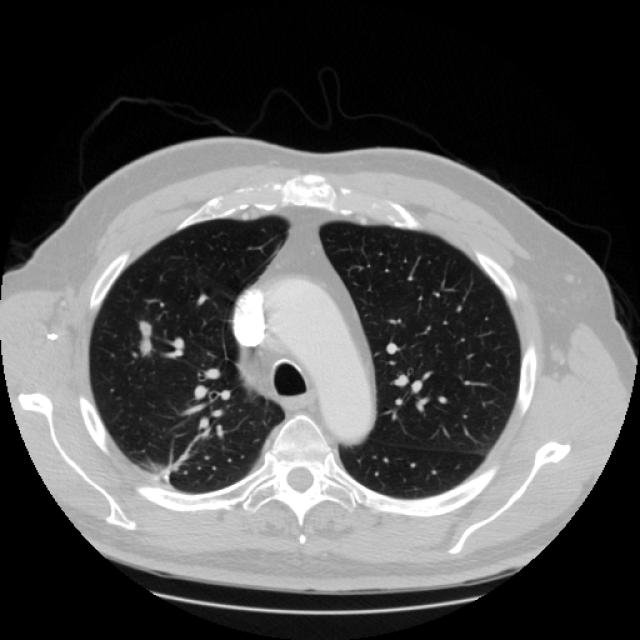nodule: (125, 319, 165, 359)
